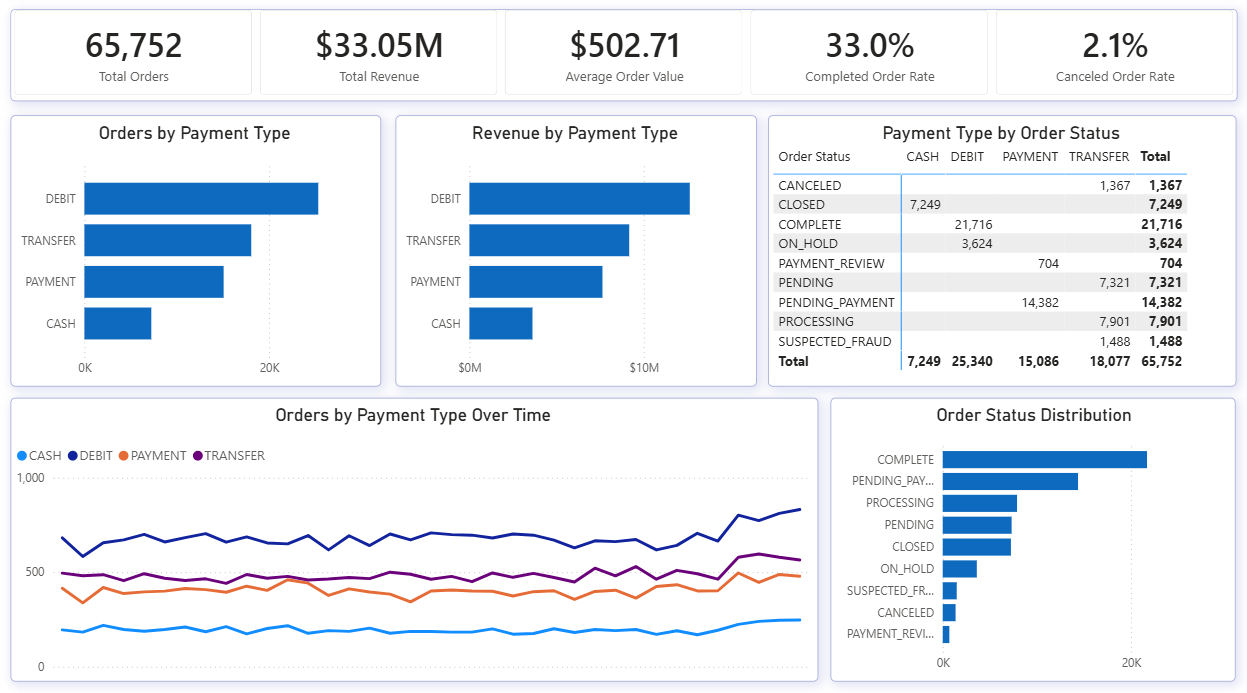

The dashboard page shown, as its layout file describes it:
{"tool":"powerbi","page":{"name":"Payment Analysis","canvas":[1280,720],"ordinal":6},"visuals":[{"type":"cardVisual","fields":{"Data":["_Measures.Total Orders","_Measures.Total Revenue","_Measures.Average Order Value","_Measures.Completed Order Rate","_Measures.Canceled Order Rate"]},"box":[12.3,15.4,1255,94.2],"z":0},{"type":"clusteredBarChart","title":"Orders by Payment Type","fields":{"Category":["DimPaymentType.Payment Type"],"Y":["_Measures.Total Orders"]},"box":[12.9,124.3,379.2,277.6],"z":1000},{"type":"lineChart","title":"Orders by Payment Type Over Time","fields":{"Y":["_Measures.Total Orders"],"Series":["DimPaymentType.Payment Type"],"Category":["DimDate.Month-Year"]},"box":[12.9,413.1,826.2,290.5],"z":2000},{"type":"clusteredBarChart","title":"Revenue by Payment Type","fields":{"Category":["DimPaymentType.Payment Type"],"Y":["_Measures.Total Revenue"]},"box":[406.7,124.3,369.5,277.6],"z":3000},{"type":"clusteredBarChart","title":"Order Status Distribution","fields":{"Category":["DimOrderStatus.Order Status"],"Y":["_Measures.Total Orders"]},"box":[852.1,413.1,414.7,290.5],"z":4000},{"type":"pivotTable","title":"Payment Type by Order Status","fields":{"Rows":["DimOrderStatus.Order Status"],"Columns":["DimPaymentType.Payment Type"],"Values":["_Measures.Total Orders"]},"box":[787.5,124.3,479.3,277.6],"z":5000}]}

Visuals, with their boxes in screenshot pixels (x1, y1, x2, y2), scaled from the page's 1280x720 canvas onto the 1247x693 screenshot:
cardVisual - _Measures.Total Orders x _Measures.Total Revenue: <region>12, 15, 1235, 105</region>
"Orders by Payment Type" clusteredBarChart: <region>13, 120, 382, 387</region>
"Orders by Payment Type Over Time" lineChart: <region>13, 398, 817, 677</region>
"Revenue by Payment Type" clusteredBarChart: <region>396, 120, 756, 387</region>
"Order Status Distribution" clusteredBarChart: <region>830, 398, 1234, 677</region>
"Payment Type by Order Status" pivotTable: <region>767, 120, 1234, 387</region>
